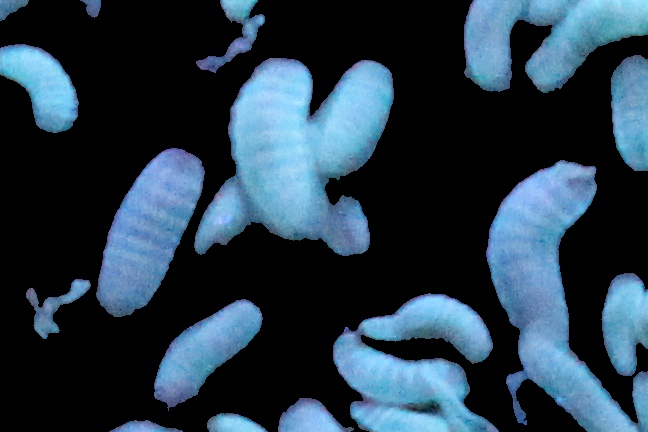larvae: (88, 134, 215, 324), (480, 156, 601, 347), (225, 64, 336, 244), (308, 42, 400, 201), (330, 321, 480, 411), (355, 274, 498, 366), (517, 1, 648, 92), (521, 332, 633, 432), (153, 304, 262, 406), (1, 36, 86, 139), (463, 1, 529, 109), (607, 54, 648, 175), (600, 264, 643, 375), (350, 406, 445, 432)
